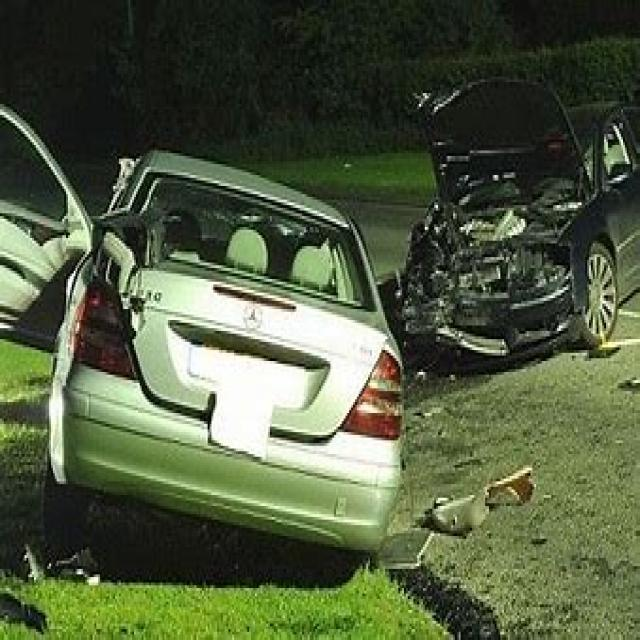Accident: (41, 104, 424, 584), (355, 62, 626, 374)
